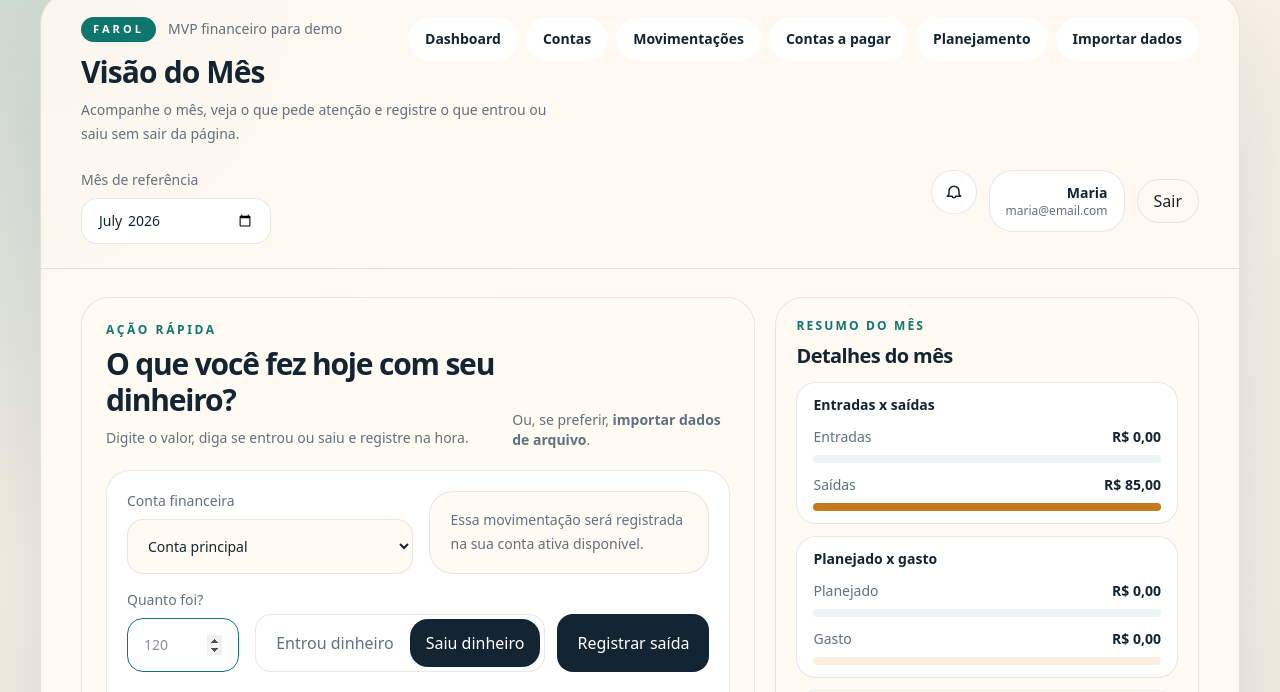
Test: DashboardPage › Dashboard_RegisterNow_SubmitSuccess_RefreshesDataAndClearsForm
Check: the dropdown labelled "Conta financeira" is disabled, box [127,518,414,574]
Step 1. Type "85" into the number field labelled "Quanto foi?" → coordinates (183, 644), box [127,618,239,672]
(page scrolled)
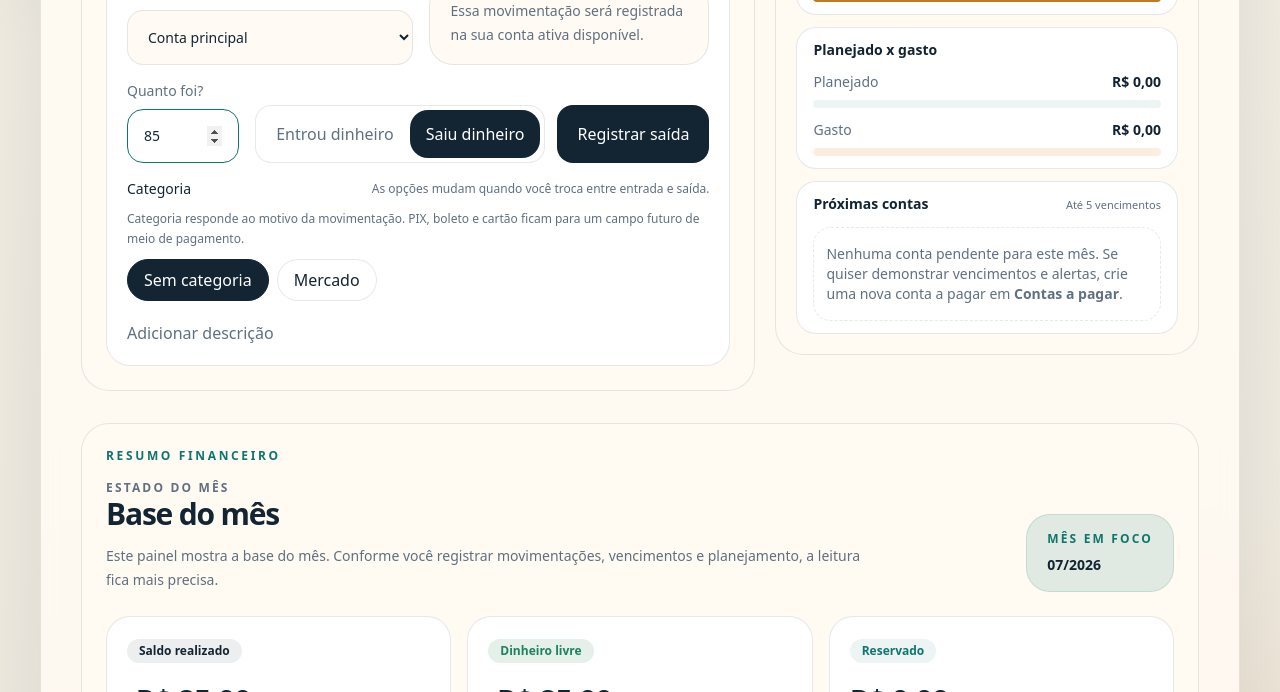
Step 2. Click the button "Adicionar descrição" → coordinates (200, 332), box [127,320,274,344]
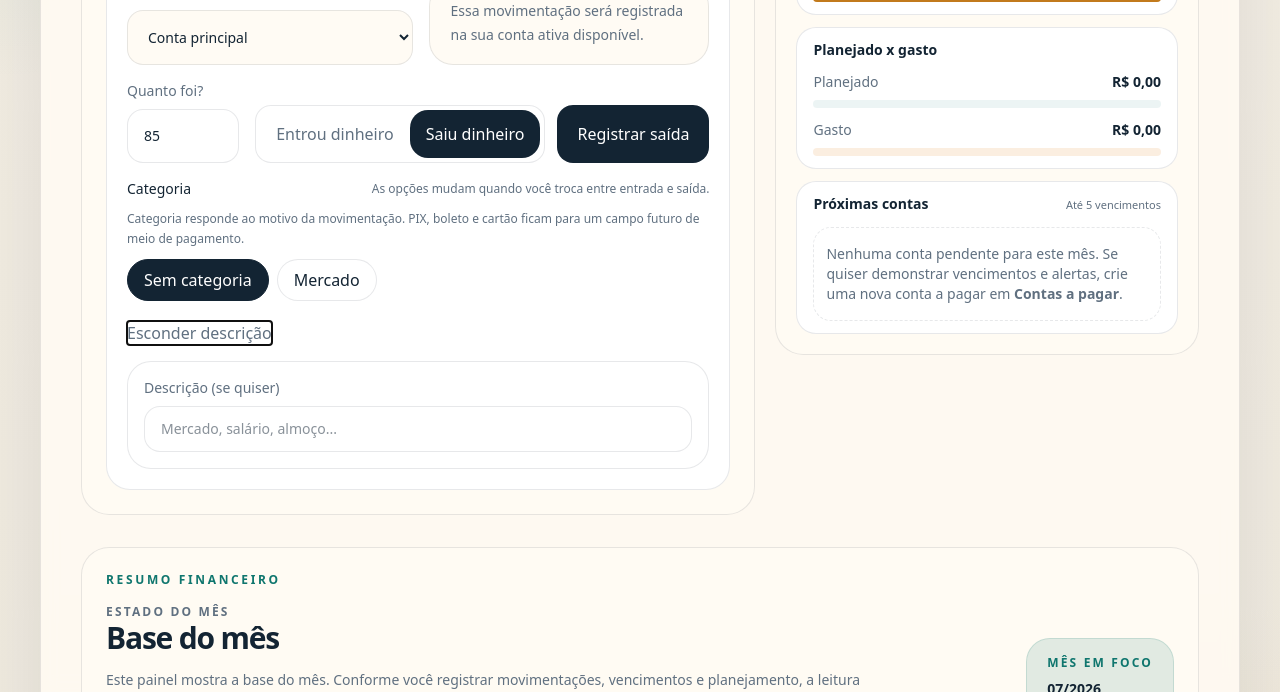
Step 3. Type "Mercado" into the field labelled "Descrição (se quiser)" → coordinates (418, 428), box [144,406,692,452]
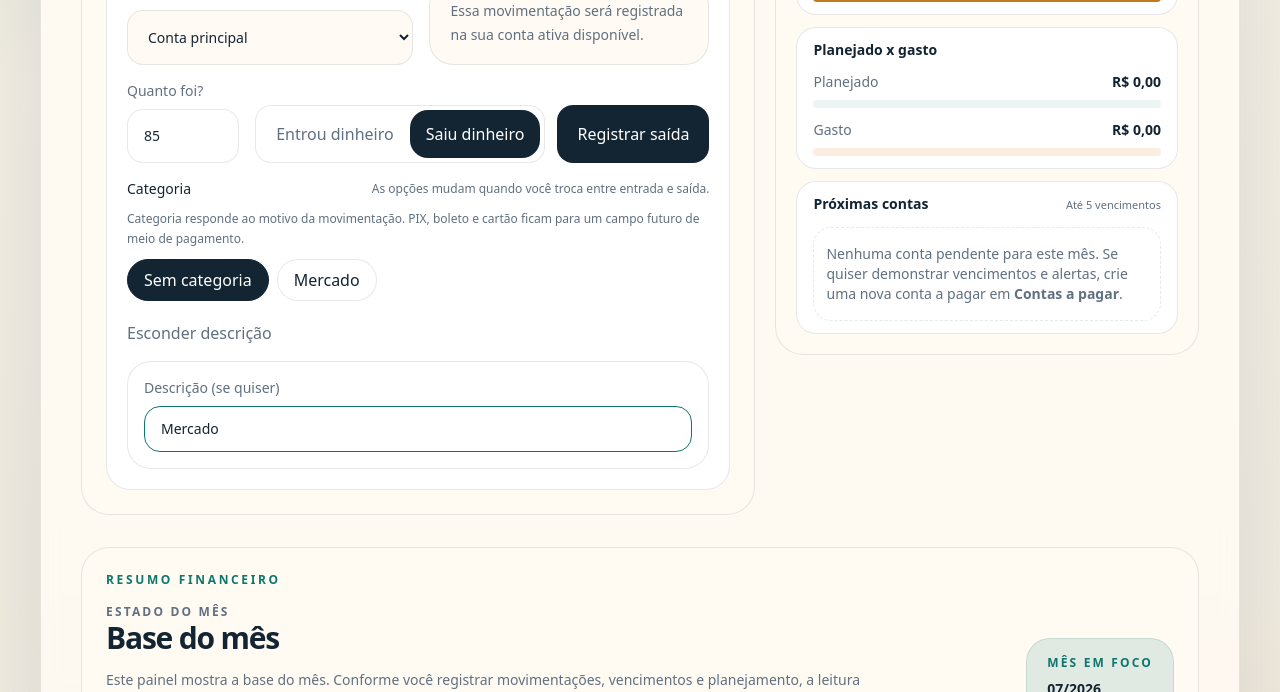
Step 4. Click the button "Registrar saída" → coordinates (634, 134), box [558,104,710,162]
(page scrolled)
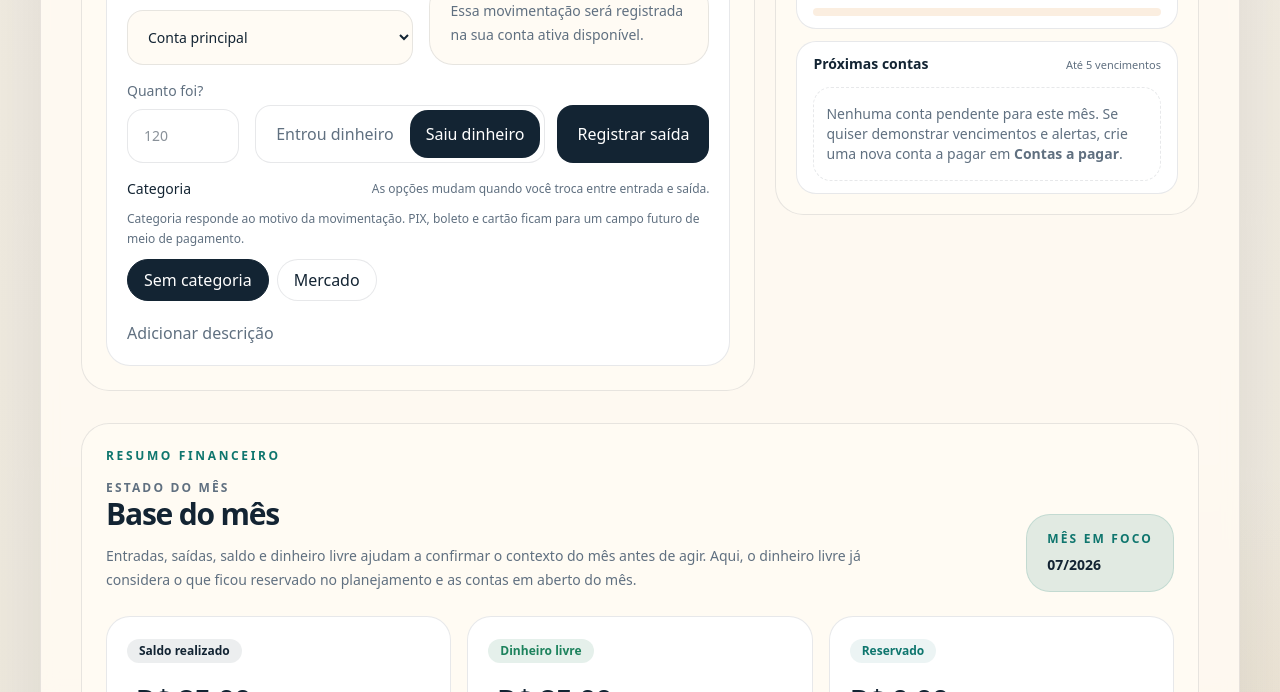
Check: the number field labelled "Quanto foi?" is not empty, box [127,108,239,162]
Check: the text labelled "Descrição (se quiser)" is gone
